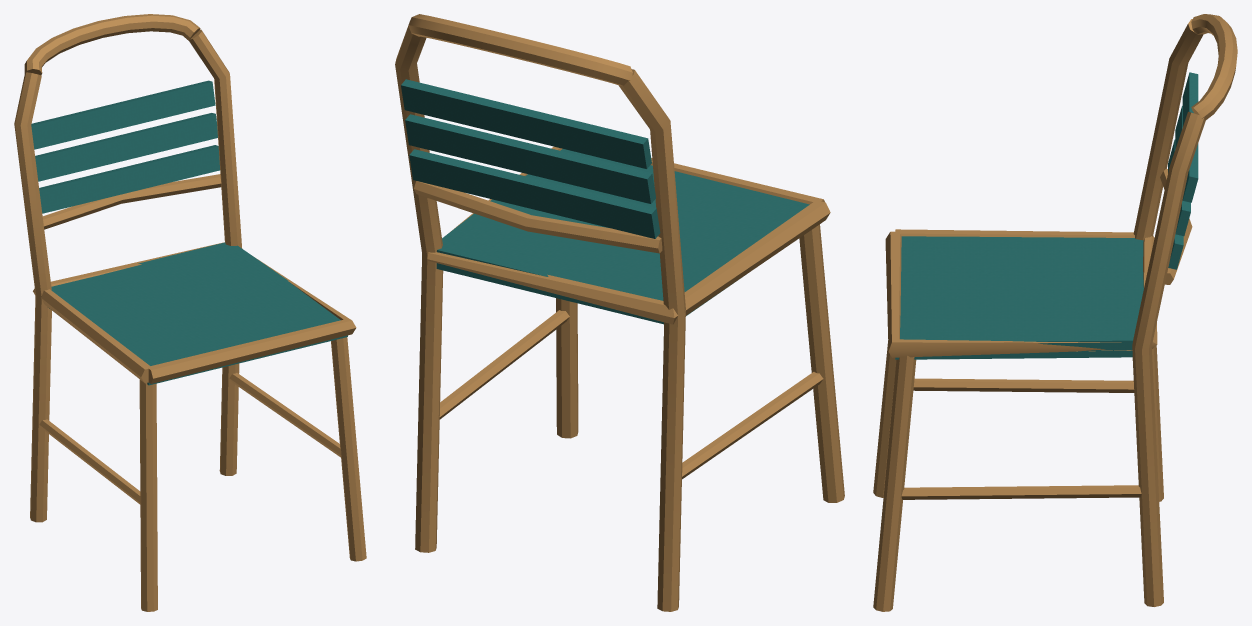
The model's file is cafe_chair.glb.
3 renders of one model, left to right at view 1: azimuth 30°, elevation 25°; view 2: azimuth 150°, elevation 25°; view 3: azimuth 270°, elevation 25°, orthographic. The views are drawn at different scales.
Parts seen in each view (by area): view 1: body; view 2: body; view 3: body.
Part boxes in pixels (x1,y1,x2,y2): body: (14,14,366,611); body: (395,14,844,611); body: (873,14,1237,611).
Size of the model in its own units: 0.472 by 0.907 by 0.5914.
2 materials, 1 textured.
